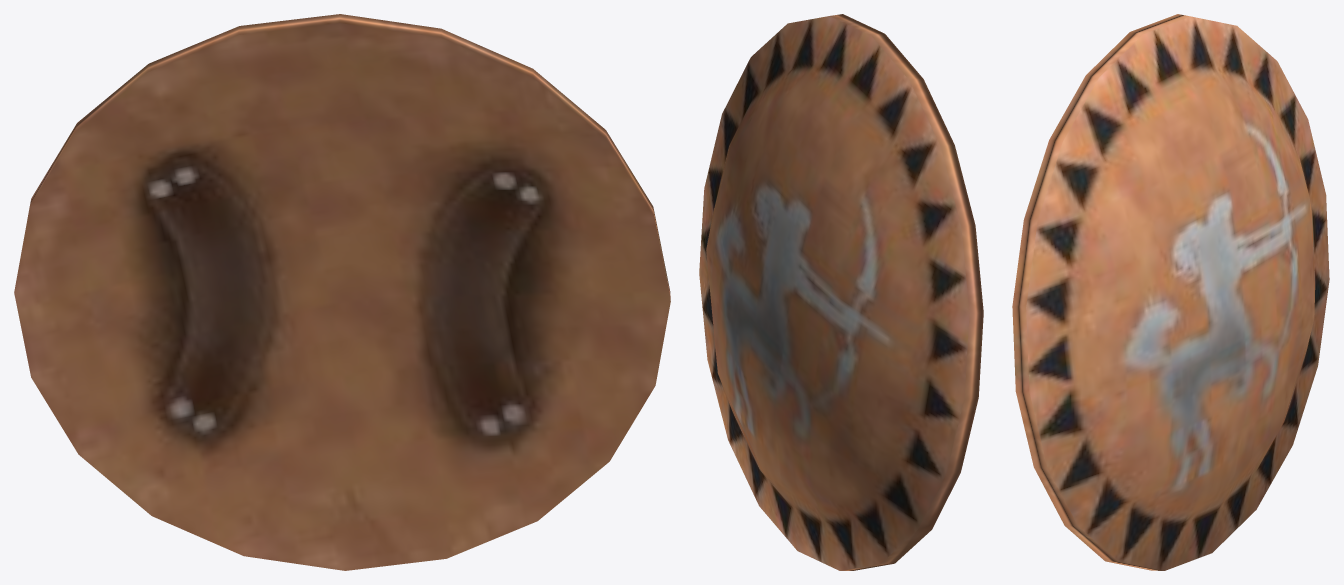
File: shield-bronzeshields.glb
3 views of the same model, side by side, from view 1: azimuth 30°, elevation 25°; view 2: azimuth 150°, elevation 25°; view 3: azimuth 270°, elevation 25° (orthographic). The views are drawn at different scales.
Bounding box in the file's own units: 0.414 × 0.4774 × 0.273.
1 material, 1 textured.
